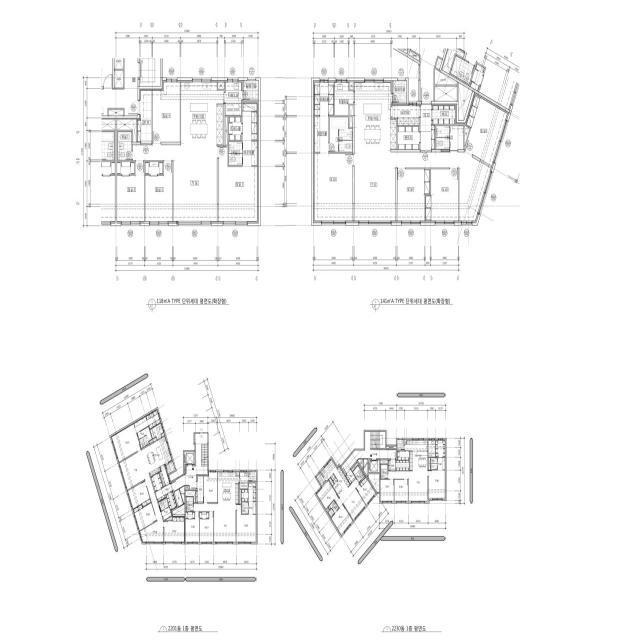space_balconi: (316, 472, 326, 486), (166, 461, 175, 474), (397, 439, 404, 450), (249, 471, 256, 481)
space_bedroom: (465, 92, 509, 166), (219, 146, 258, 223), (313, 154, 353, 223), (397, 169, 430, 223), (426, 169, 458, 223), (153, 80, 180, 142), (117, 162, 144, 223), (145, 162, 172, 223), (111, 423, 141, 462), (237, 504, 256, 543), (331, 504, 353, 535), (127, 481, 151, 509), (316, 481, 339, 509), (133, 503, 156, 531), (356, 477, 376, 505), (164, 517, 185, 543), (429, 470, 445, 499), (204, 471, 217, 502), (200, 512, 213, 543), (186, 512, 199, 543), (380, 480, 394, 502), (395, 480, 408, 502), (145, 162, 163, 174), (117, 162, 134, 174), (200, 512, 209, 518), (186, 512, 194, 518)
space_dressroom: (313, 81, 334, 115), (242, 101, 258, 140), (313, 117, 328, 152), (242, 142, 258, 167), (146, 409, 161, 429), (229, 117, 241, 140), (436, 439, 445, 457), (249, 483, 256, 501), (242, 490, 248, 501)
space_elevator: (140, 58, 160, 86), (184, 452, 195, 465), (369, 460, 379, 472)
space_elevator_hall: (101, 58, 138, 116), (171, 434, 207, 491), (341, 449, 396, 474)
space_front: (137, 89, 152, 143), (421, 104, 435, 150), (432, 104, 456, 124), (155, 483, 172, 501), (151, 473, 163, 491), (166, 491, 177, 510), (196, 476, 203, 503), (345, 470, 356, 484), (388, 460, 396, 471)
space_kitchen: (355, 81, 397, 152), (181, 80, 224, 145), (142, 436, 172, 476), (321, 459, 350, 497), (405, 439, 428, 471), (218, 471, 239, 504)
space_living_room: (355, 152, 492, 223), (133, 145, 217, 223), (119, 450, 163, 543), (194, 504, 236, 543), (336, 478, 366, 521), (388, 471, 428, 502)
space_multipurpose_space: (225, 80, 243, 115), (335, 81, 353, 115)
space_other: (410, 48, 446, 101), (458, 82, 473, 120), (392, 104, 419, 125), (398, 127, 419, 149), (117, 119, 136, 142), (435, 69, 457, 85), (435, 86, 457, 101), (159, 465, 170, 487), (150, 423, 164, 440), (369, 474, 379, 492), (240, 471, 249, 489), (174, 489, 183, 507), (114, 71, 123, 88), (173, 504, 185, 515), (428, 440, 435, 457), (396, 461, 409, 470), (349, 105, 354, 127), (186, 490, 195, 502), (397, 451, 409, 460), (409, 51, 419, 61), (465, 126, 470, 146), (114, 58, 123, 69), (363, 459, 368, 477), (180, 486, 185, 503), (435, 58, 442, 70), (109, 110, 123, 116), (351, 462, 358, 471), (218, 80, 224, 89), (358, 459, 363, 469), (149, 437, 157, 443), (329, 478, 334, 485), (380, 460, 388, 464), (350, 81, 354, 89), (386, 446, 396, 449), (165, 516, 172, 520), (184, 466, 186, 474), (161, 433, 165, 437), (236, 471, 239, 476), (240, 490, 241, 504), (326, 508, 329, 512), (185, 486, 189, 489), (429, 458, 430, 470), (405, 440, 406, 444)
space_outdoor_room: (393, 81, 407, 102), (244, 80, 258, 100)
space_staircase: (365, 432, 385, 450), (201, 444, 207, 466)
space_toilet: (330, 117, 352, 152), (118, 132, 132, 160), (137, 427, 152, 448), (450, 126, 463, 149), (134, 416, 148, 433), (328, 500, 339, 517), (353, 466, 364, 483), (431, 458, 445, 470), (436, 138, 450, 149), (436, 126, 450, 137), (229, 142, 242, 153), (229, 154, 242, 165), (161, 507, 172, 520), (381, 465, 388, 479), (186, 497, 193, 511), (249, 502, 256, 514), (159, 500, 165, 511), (163, 498, 169, 509), (242, 502, 248, 508), (242, 508, 248, 514)
